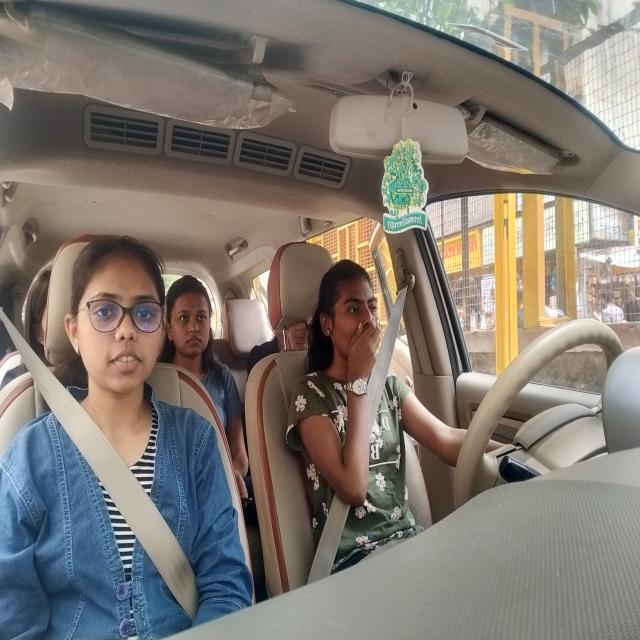drowsy: (312, 254, 385, 367)
person: (63, 232, 169, 396), (170, 268, 220, 359), (20, 266, 55, 368)
